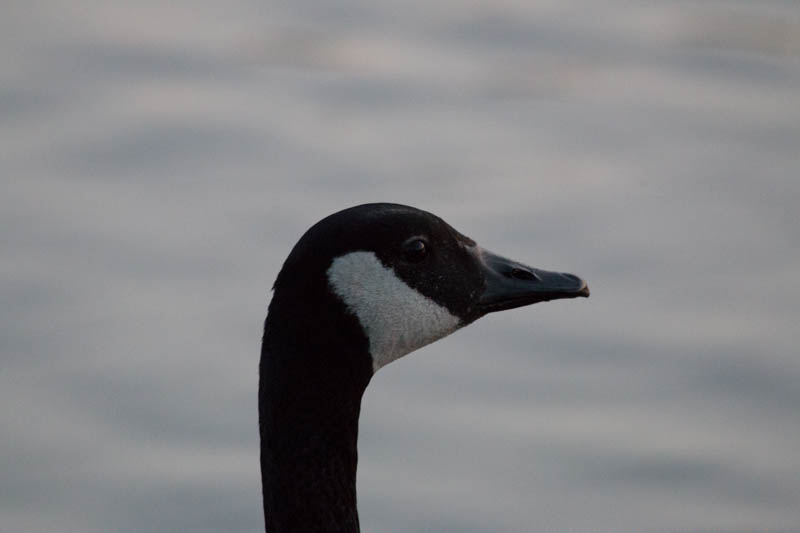goose-head: (259, 202, 591, 378)
